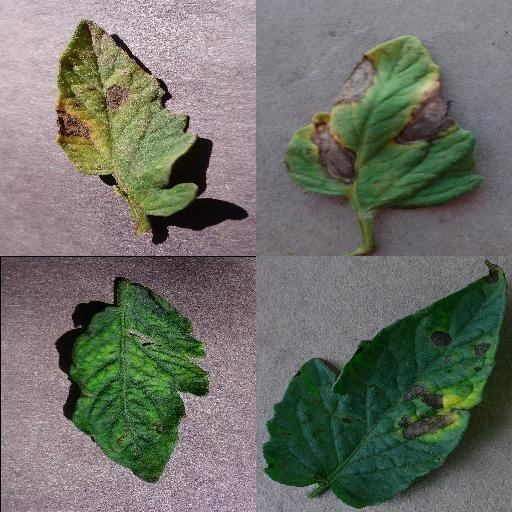Early Blight: (262, 259, 508, 511), (284, 32, 488, 212), (54, 18, 199, 218)
Mosaic Virus: (67, 282, 211, 486)
